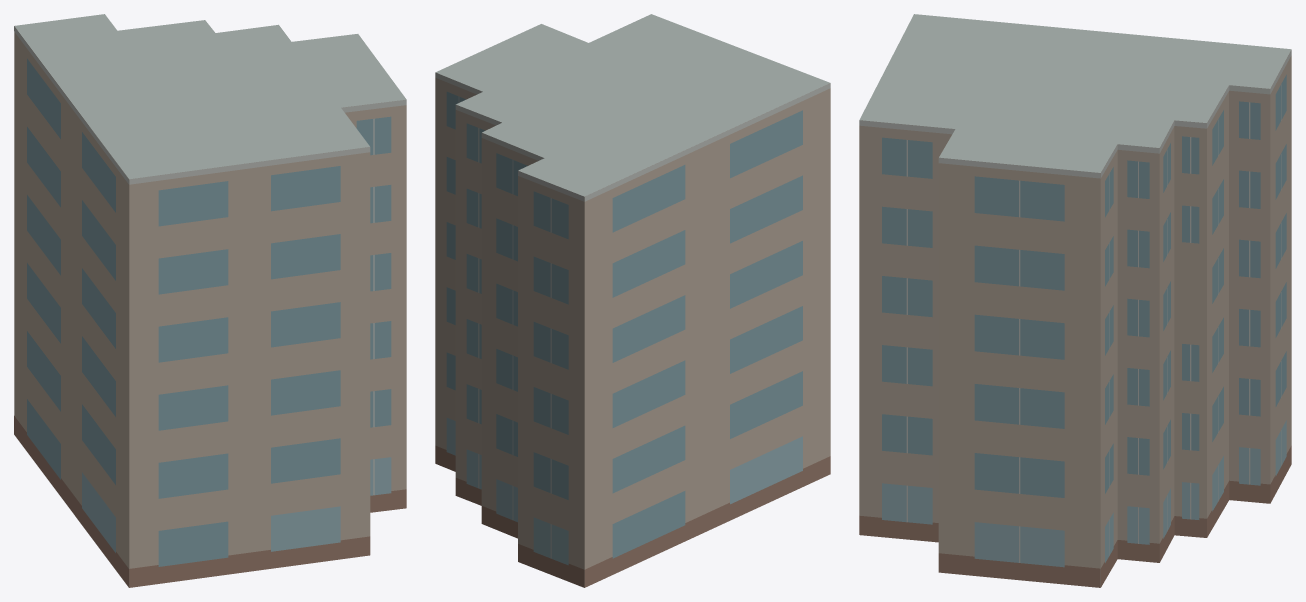
The model's file is survey-upis-33029313.glb.
3 views of the same model, side by side, from view 1: azimuth 30°, elevation 25°; view 2: azimuth 150°, elevation 25°; view 3: azimuth 270°, elevation 25° (orthographic). The views are drawn at different scales.
Visible parts, largest first — view 1: survey-upis-33029313.tmp; view 2: survey-upis-33029313.tmp; view 3: survey-upis-33029313.tmp.
Boxes of the visible parts, x1,y1,x2,y2 form: survey-upis-33029313.tmp: [14, 14, 406, 587]; survey-upis-33029313.tmp: [435, 14, 830, 587]; survey-upis-33029313.tmp: [859, 14, 1291, 587].
Bounding box in the file's own units: 15.05 × 18.3 × 17.3.
